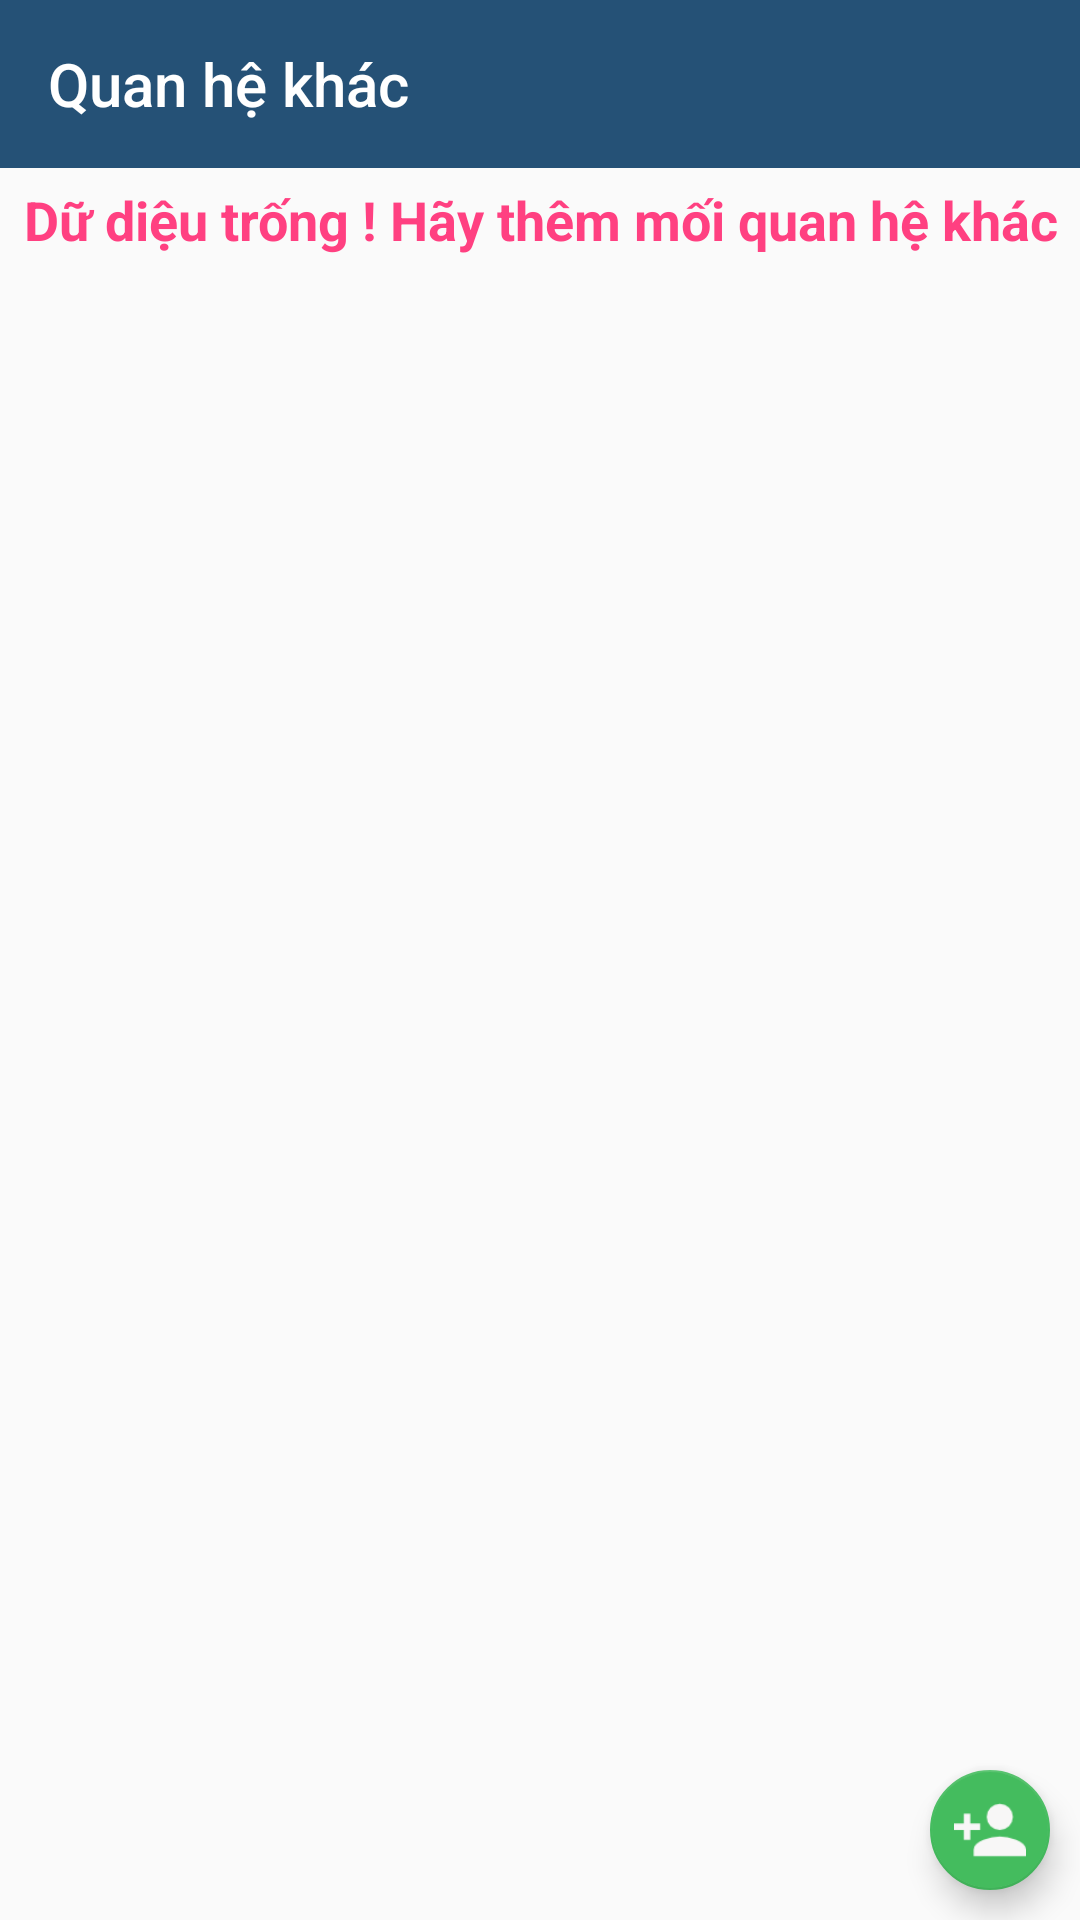

Icons on this 1080px×1920px Android screen, each with its box as (x1, y1, x2, y2):
add: (930, 1770, 1050, 1890)
